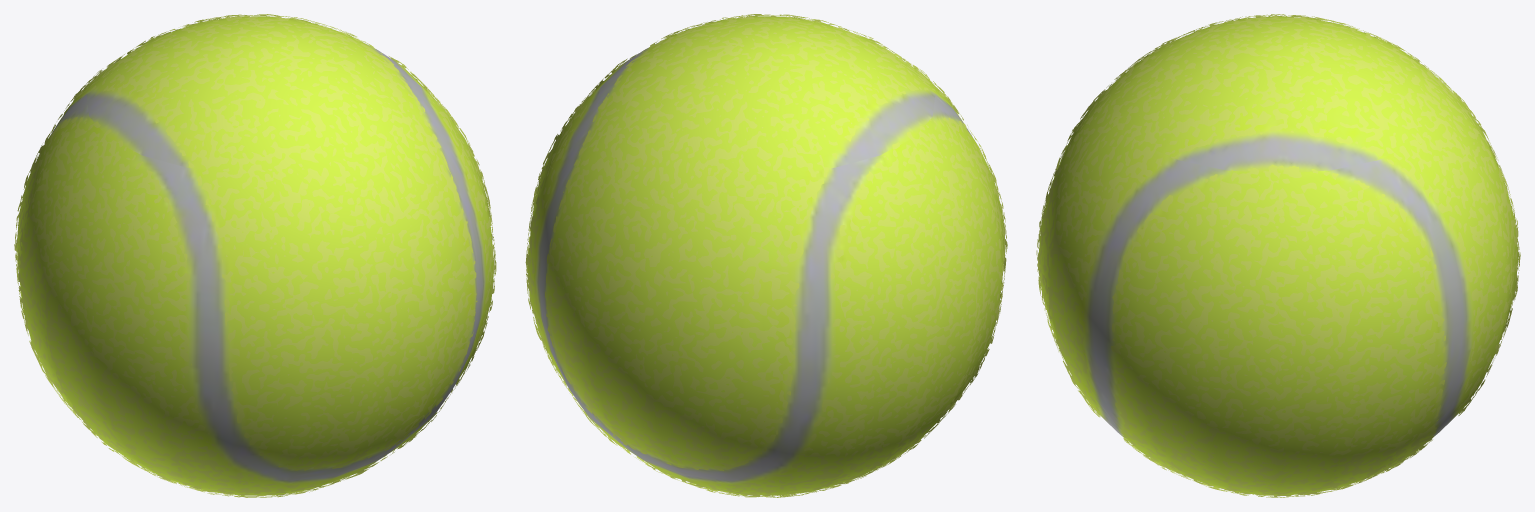
File: tennis_ball-com.glb
3 views of the same model, side by side, from view 1: azimuth 30°, elevation 25°; view 2: azimuth 150°, elevation 25°; view 3: azimuth 270°, elevation 25° (orthographic).
Visible parts, largest first — view 1: defaultMaterial (×2); view 2: defaultMaterial (×2); view 3: defaultMaterial (×2).
Part boxes in pixels (x1,y1,x2,y2): defaultMaterial (×2): (14,14,496,497); defaultMaterial (×2): (525,14,1007,497); defaultMaterial (×2): (1036,14,1520,497).
Bounding box in the file's own units: 0.1155 × 0.1155 × 0.1155.
Materials: 2 (2 with a texture image).
